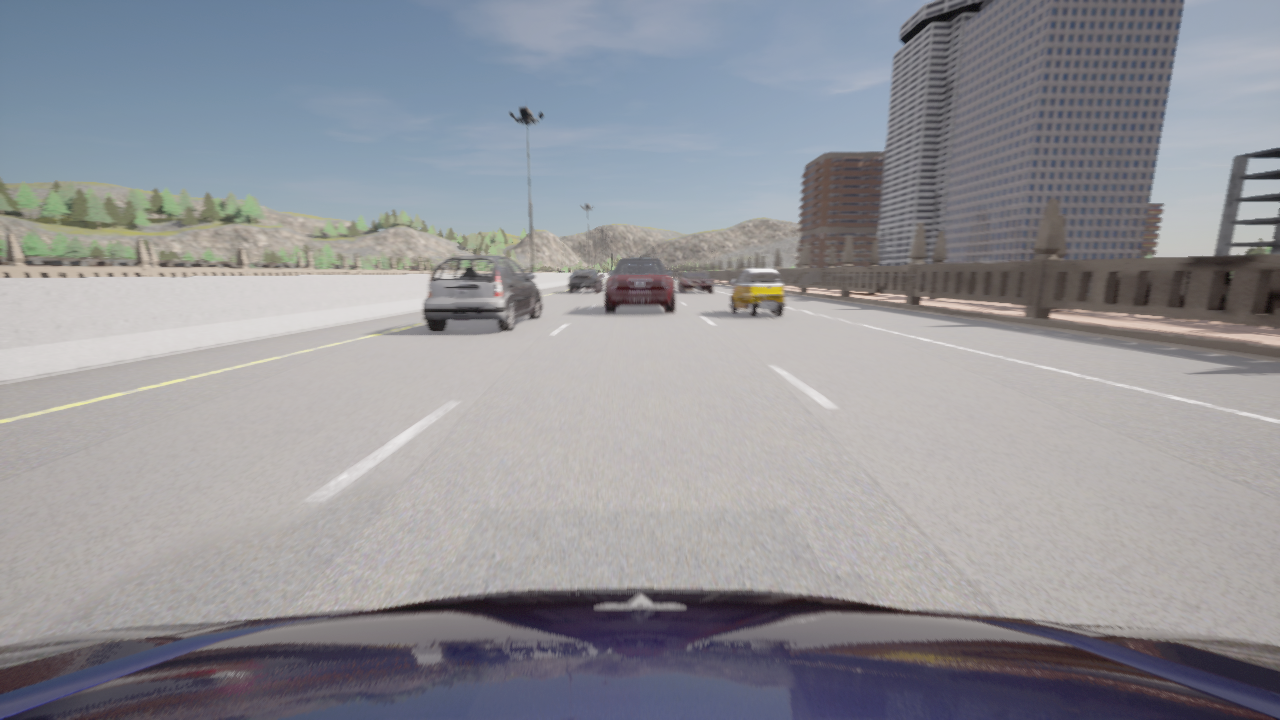cyclist: (0, 588, 1279, 719), (421, 255, 541, 331), (605, 257, 674, 312), (730, 268, 784, 316), (568, 268, 603, 292), (678, 272, 713, 292)
